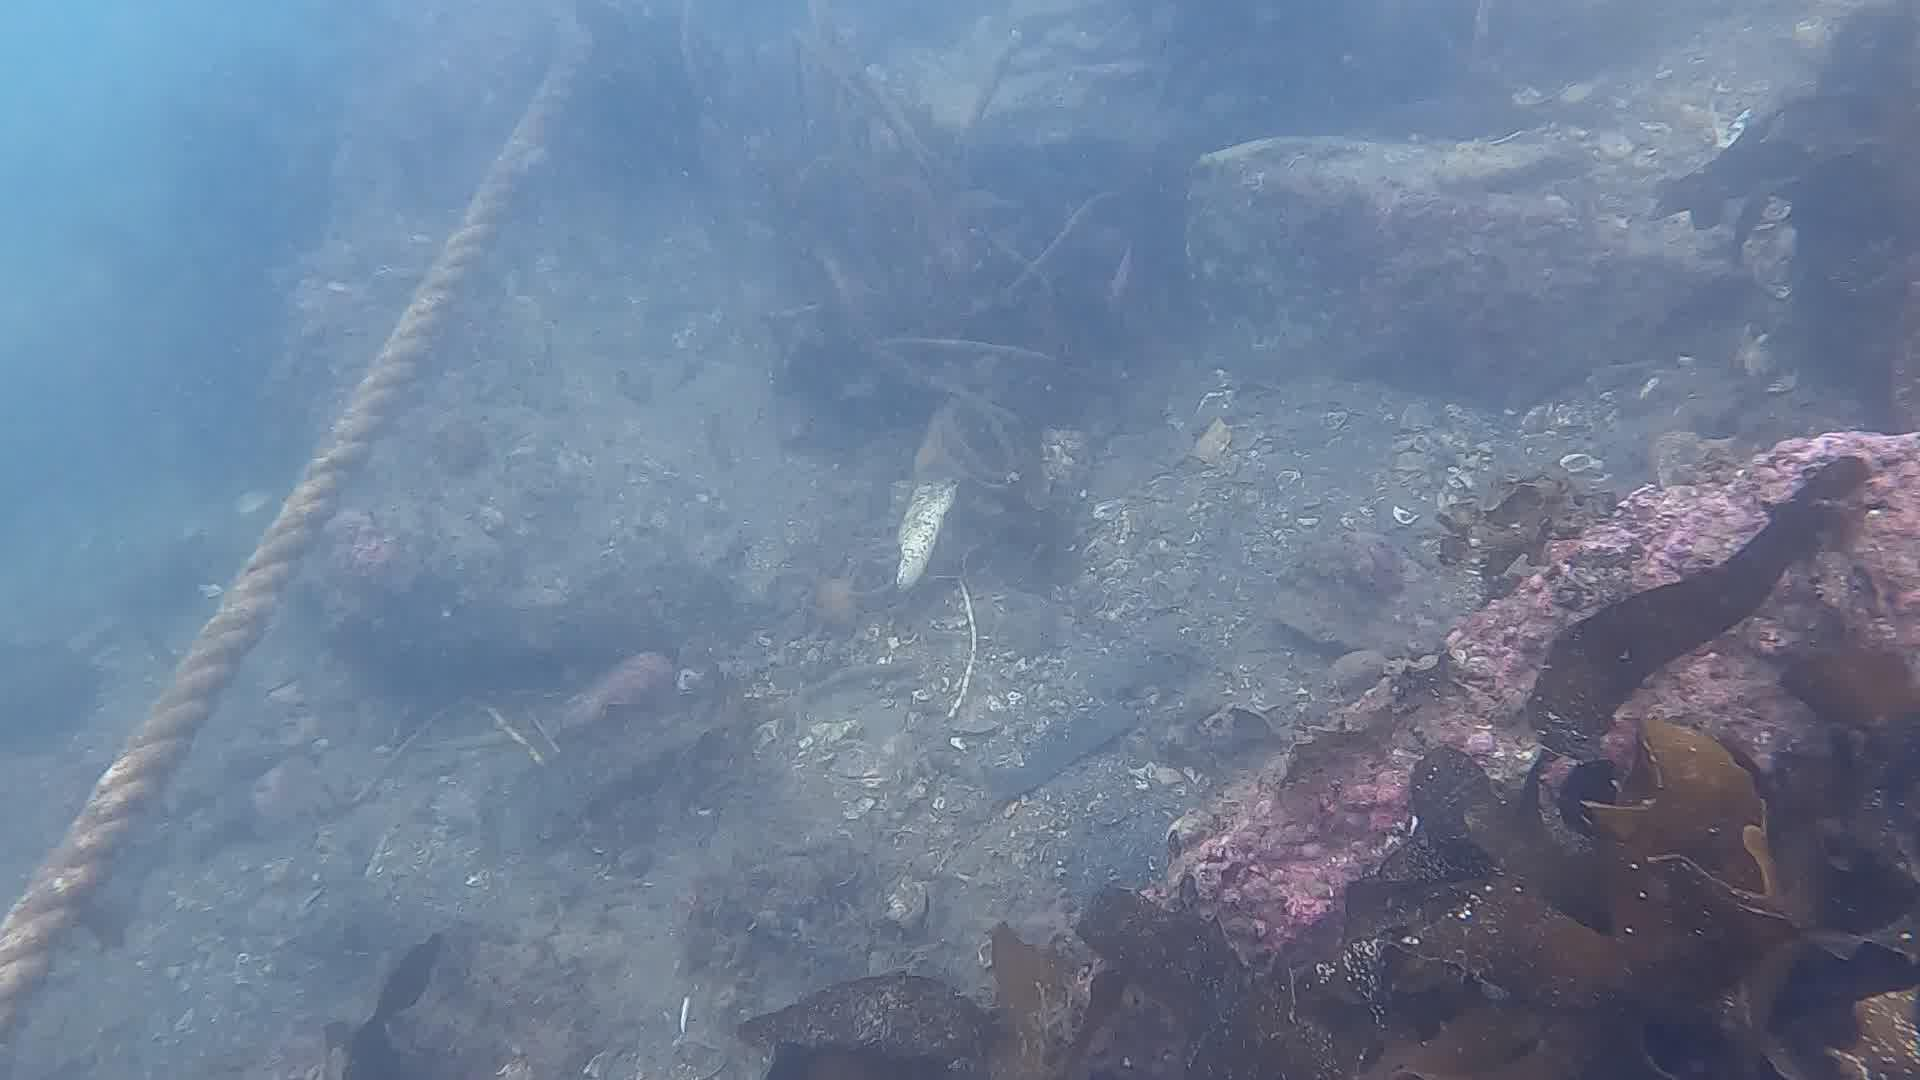rope: (0, 26, 599, 1044)
